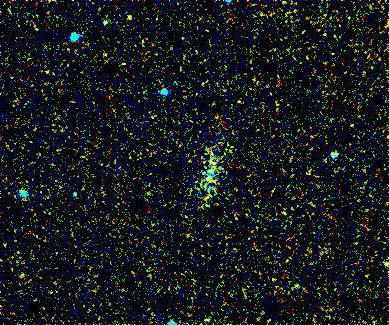star: (111, 0, 141, 29)
